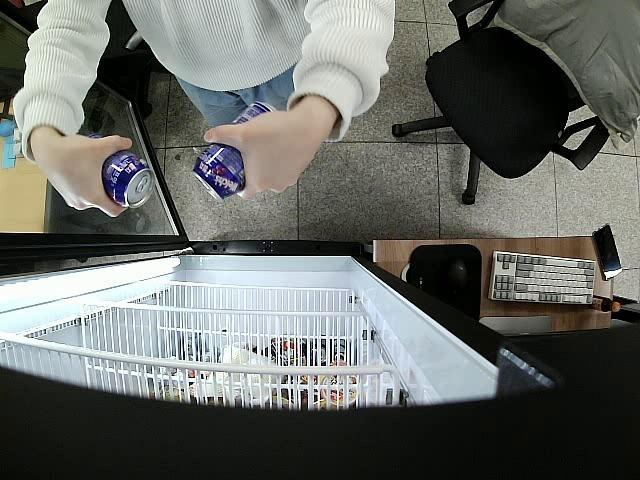14_welchsGrape: (194, 102, 275, 200), (87, 132, 154, 210)
